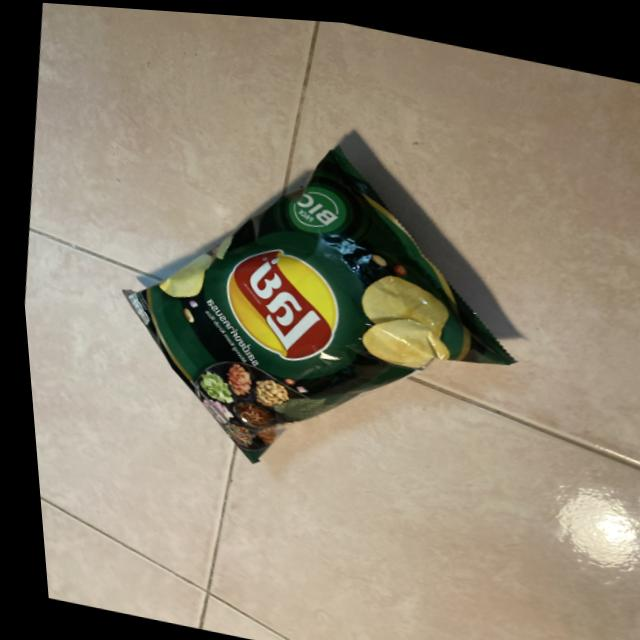Laygreen: (51, 89, 544, 517)
